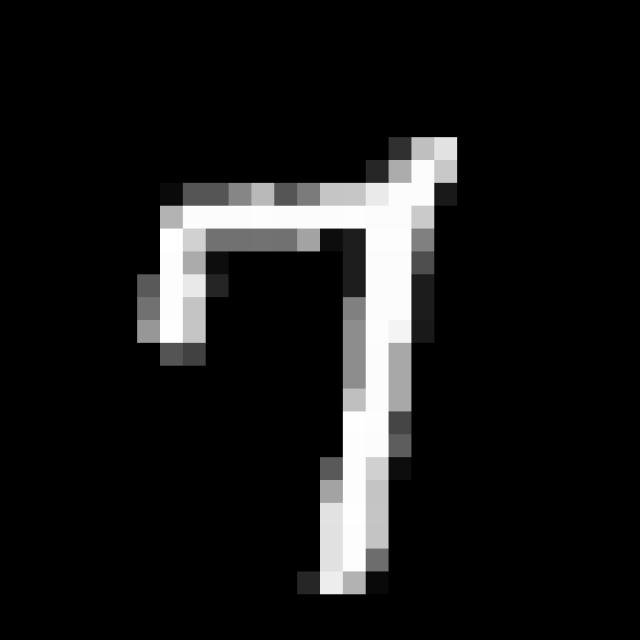seven -7-: (130, 128, 476, 611)
